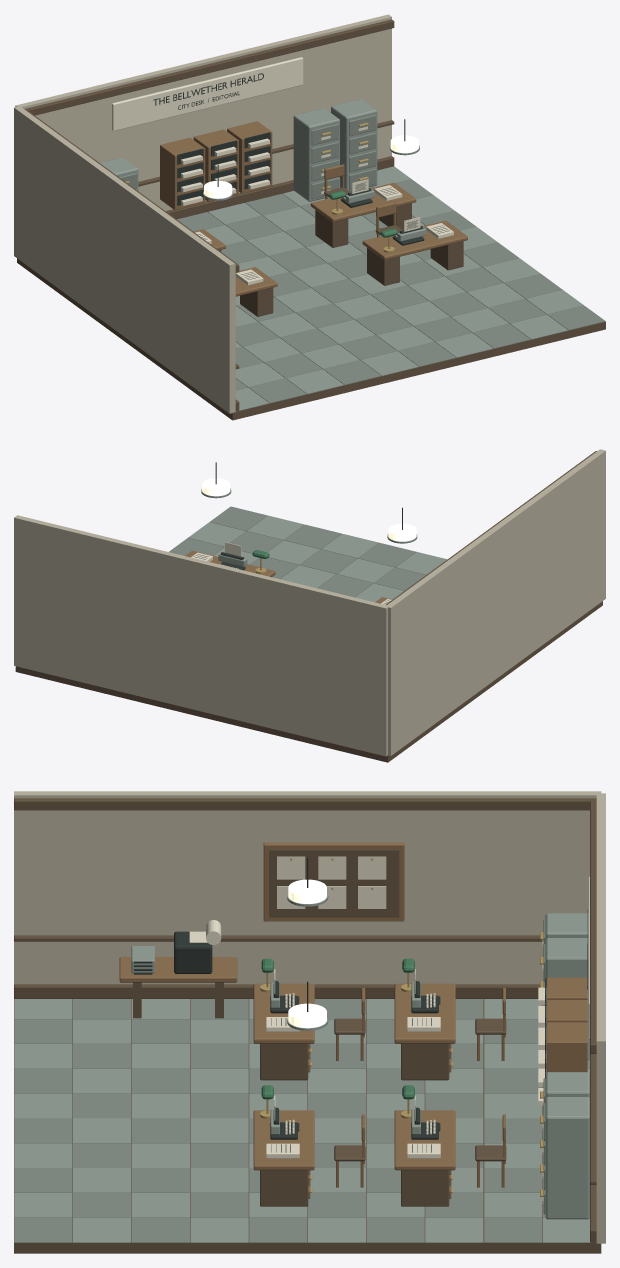
The model's file is interior-herald.glb.
3 renders of one model, top to bottom at view 1: azimuth 30°, elevation 25°; view 2: azimuth 150°, elevation 25°; view 3: azimuth 270°, elevation 25°, orthographic. The views are drawn at different scales.
Visible parts, largest first — view 1: left plaster, linoleum tile, linoleum tile.001, back plaster, newsroom foundation, file label, back moulding, filing cabinet, chair leg, copy pigeonhole, file drawer, pigeonhole opening (+4 smaller); view 2: back plaster, left plaster, linoleum tile, linoleum tile.001, newsroom foundation, newsroom pendant, side moulding; view 3: left plaster, linoleum tile, linoleum tile.001, side moulding, newsroom foundation, chair leg, filing cabinet, back plaster, copy pigeonhole, typewriter foot, pinned clipping, paper in platen (+5 smaller).
Boxes of the visible parts, <box> form: left plaster: <box>14,107,235,413</box>; linoleum tile: <box>203,145,583,411</box>; linoleum tile.001: <box>177,179,605,403</box>; back plaster: <box>15,14,391,210</box>; newsroom foundation: <box>17,187,605,420</box>; file label: <box>112,57,367,205</box>; back moulding: <box>25,19,394,219</box>; filing cabinet: <box>100,99,377,201</box>; chair leg: <box>194,164,467,296</box>; copy pigeonhole: <box>160,121,272,210</box>; file drawer: <box>119,115,376,199</box>; pigeonhole opening: <box>177,132,270,205</box>; back plaster: <box>14,515,388,756</box>; left plaster: <box>386,449,605,755</box>; linoleum tile: <box>188,488,446,602</box>; linoleum tile.001: <box>169,506,425,597</box>; newsroom foundation: <box>15,601,602,762</box>; newsroom pendant: <box>202,478,416,541</box>; side moulding: <box>386,451,596,605</box>; left plaster: <box>14,791,601,984</box>; linoleum tile: <box>14,893,596,1242</box>; linoleum tile.001: <box>14,999,589,1242</box>; side moulding: <box>14,798,596,998</box>; newsroom foundation: <box>14,982,601,1253</box>; chair leg: <box>119,957,505,1198</box>; filing cabinet: <box>545,913,589,1219</box>; back plaster: <box>596,793,605,1243</box>; copy pigeonhole: <box>546,977,587,1072</box>; typewriter foot: <box>134,857,440,1152</box>; pinned clipping: <box>277,856,386,908</box>; paper in platen: <box>189,920,440,1158</box>.
Bounding box in the file's own units: 10.08 × 3.99 × 10.08.
